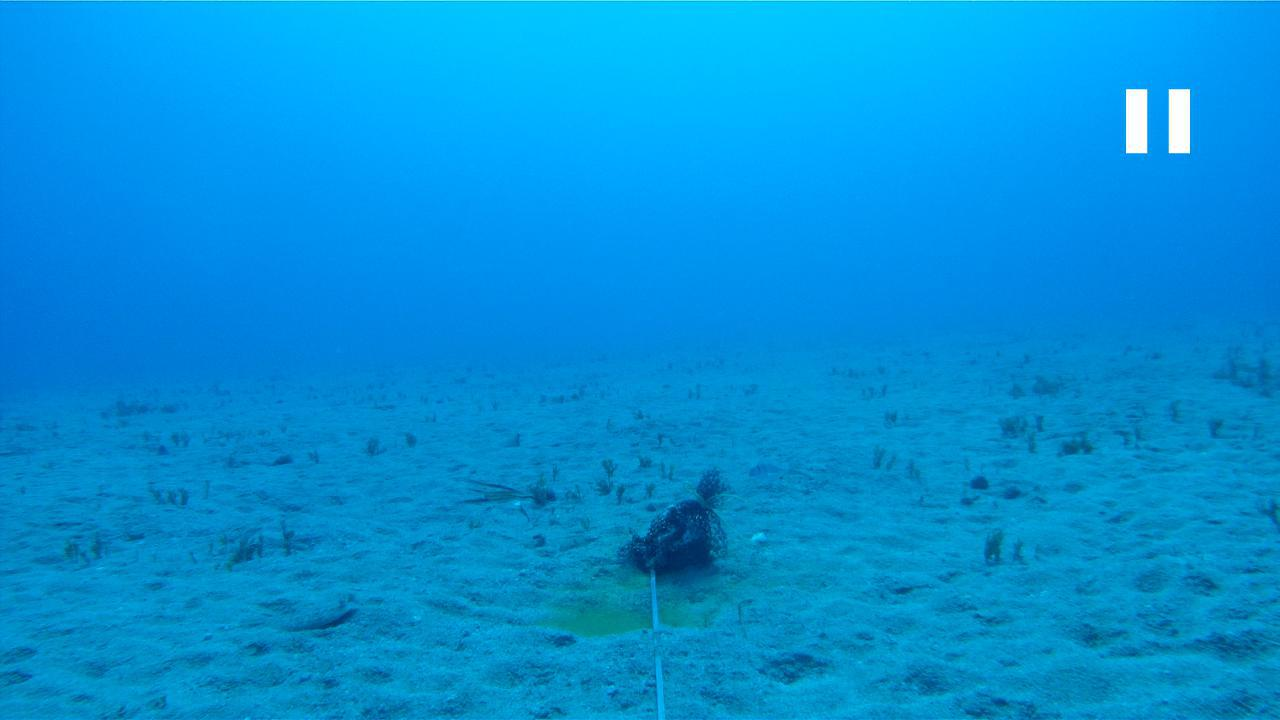bothus: (262, 591, 362, 628)
